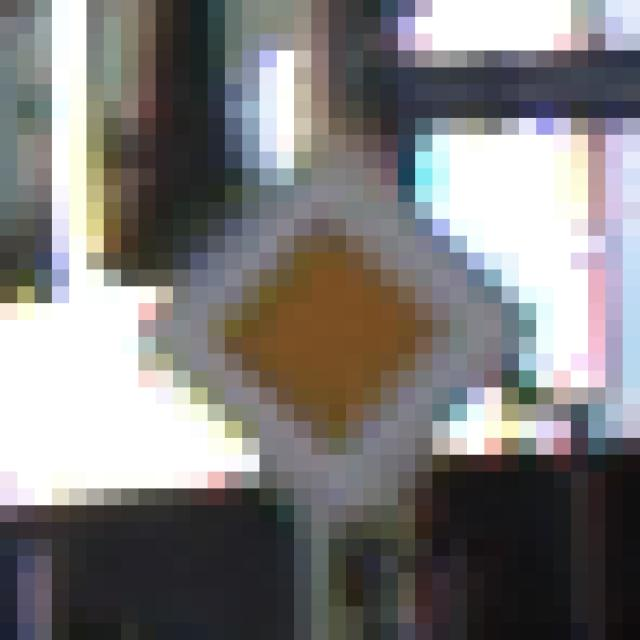Main Road: (105, 85, 554, 557)
